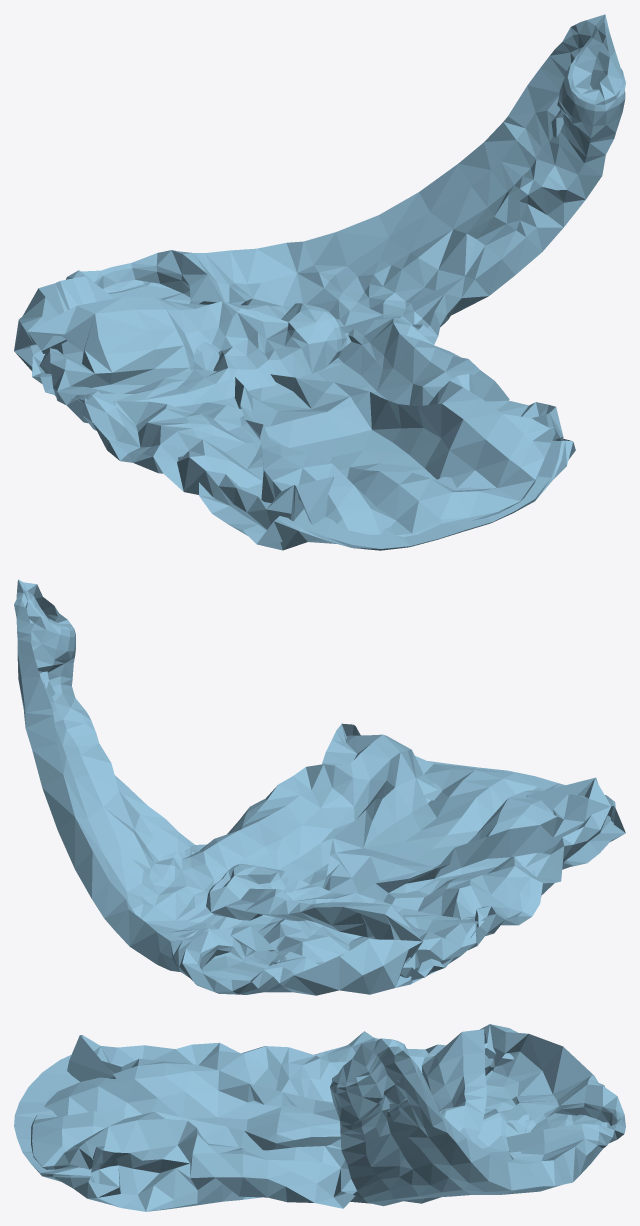
File: frame_05.glb
3 renders of one model, top to bottom at view 1: azimuth 30°, elevation 25°; view 2: azimuth 150°, elevation 25°; view 3: azimuth 270°, elevation 25°, orthographic. The views are drawn at different scales.
Visible parts, largest first — view 1: frame_05.obj; view 2: frame_05.obj; view 3: frame_05.obj.
Boxes of the visible parts, x1,y1,x2,y2 form: frame_05.obj: (14, 14, 625, 550); frame_05.obj: (14, 579, 625, 995); frame_05.obj: (14, 1024, 625, 1211).
Size of the model in its own units: 1.43 by 0.7842 by 1.6.
